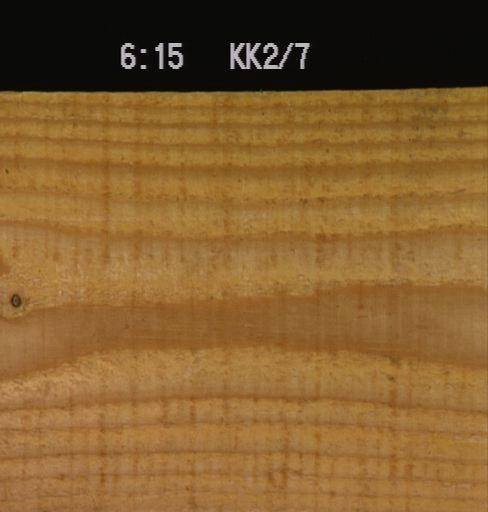dry_knot: (6, 289, 24, 309)
